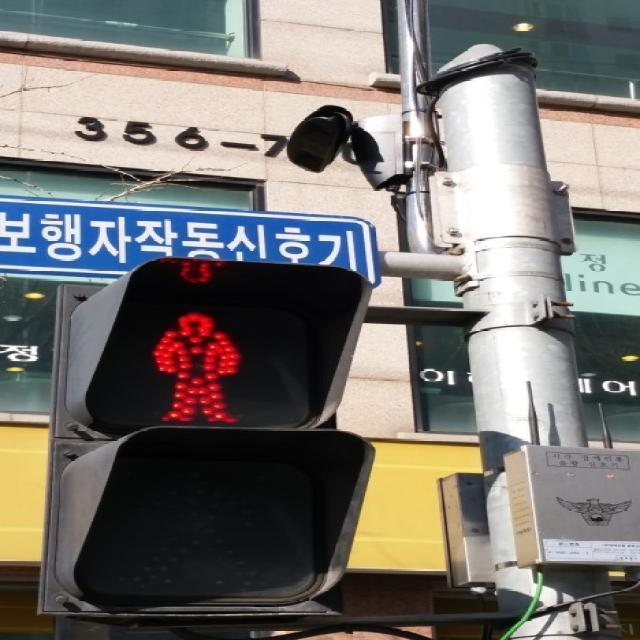redlight: (44, 258, 372, 621)
